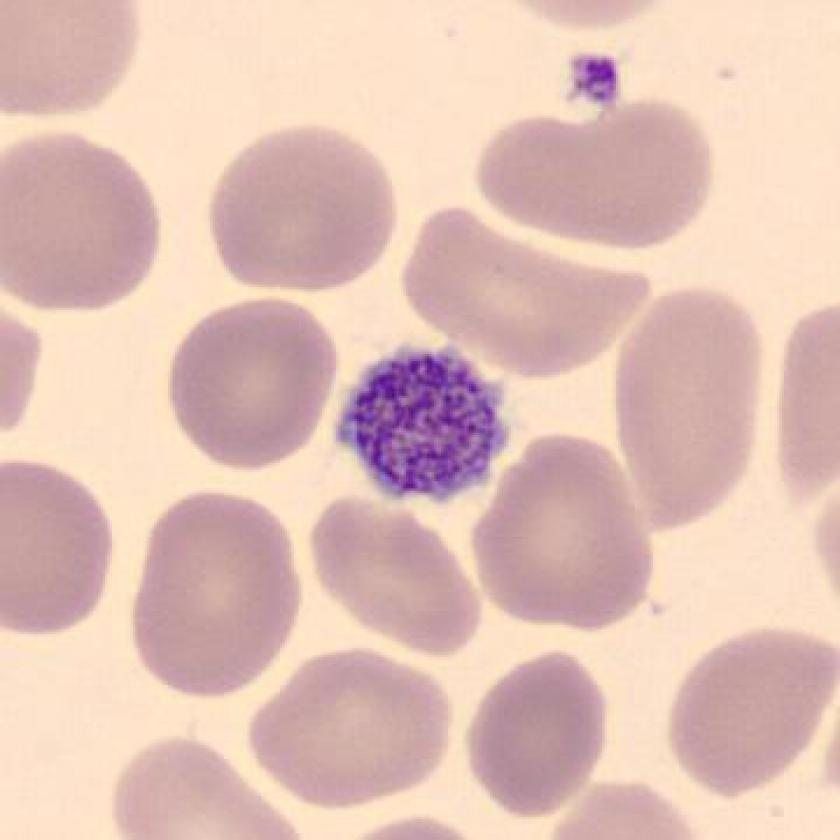platelets: (325, 325, 531, 519), (559, 38, 633, 124)
